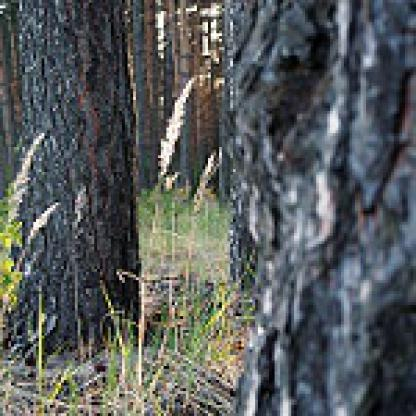trunk: (219, 0, 413, 413), (0, 2, 142, 361), (177, 0, 197, 197), (0, 25, 20, 170), (147, 0, 162, 181)
